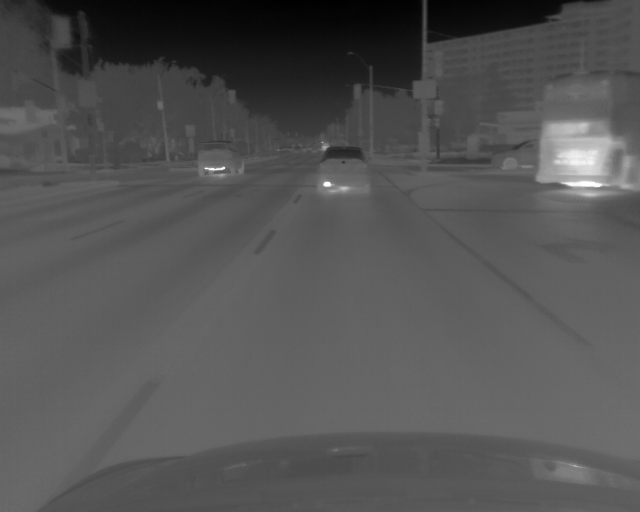car: (534, 70, 640, 196), (315, 144, 370, 194), (196, 139, 247, 180), (490, 140, 539, 173)
